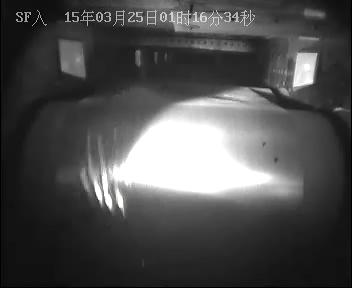wrinkled steel: (76, 127, 131, 220)
